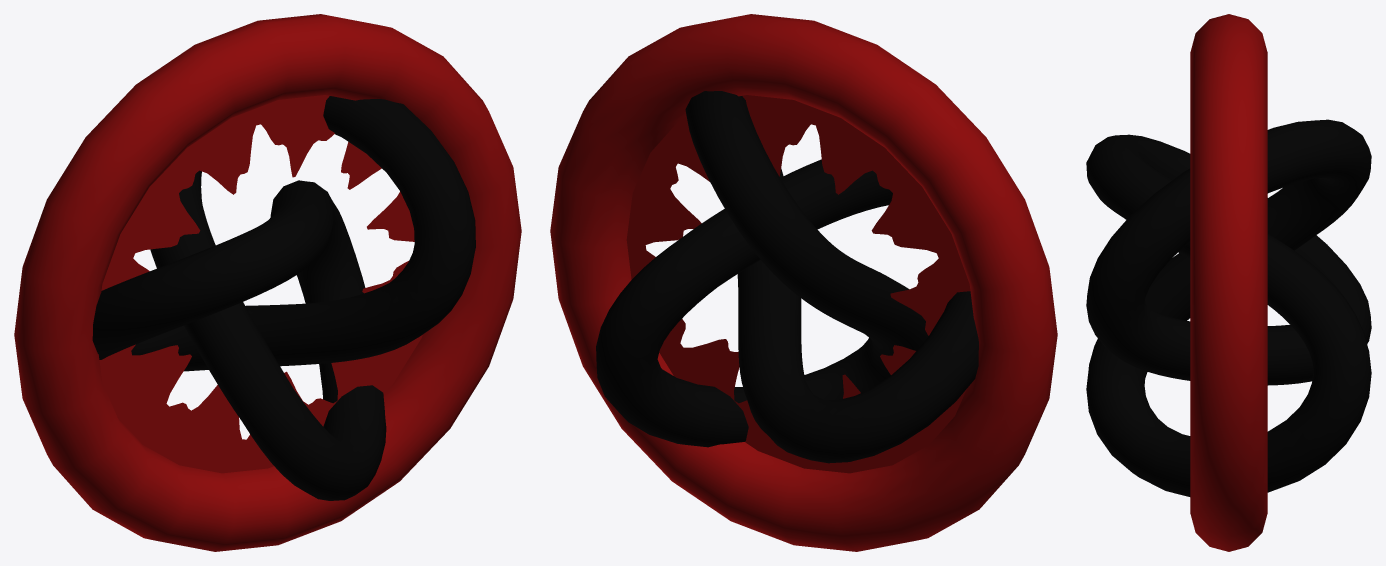
The model's file is destroyed.obj.
The picture shows the model from 3 angles, left to right: view 1: azimuth 30°, elevation 25°; view 2: azimuth 150°, elevation 25°; view 3: azimuth 270°, elevation 25°; orthographic projection. The views are drawn at different scales.
Parts seen in each view (by area): view 1: Torus001, Torus_Knot001, RingWave001; view 2: Torus001, Torus_Knot001, RingWave001; view 3: Torus_Knot001, Torus001.
Part boxes in pixels (bbox=[...]): Torus001: bbox=[14, 14, 521, 551]; Torus_Knot001: bbox=[92, 96, 475, 500]; RingWave001: bbox=[99, 95, 422, 473]; Torus001: bbox=[550, 14, 1057, 551]; Torus_Knot001: bbox=[596, 91, 978, 463]; RingWave001: bbox=[626, 95, 970, 473]; Torus_Knot001: bbox=[1086, 119, 1371, 496]; Torus001: bbox=[1190, 14, 1267, 551].
Bounding box in the file's own units: 7 × 7 × 3.7.
